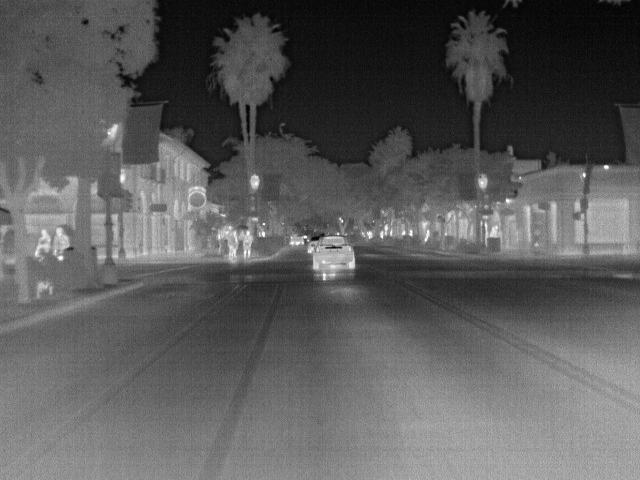car: (311, 232, 357, 276), (288, 232, 308, 248), (308, 236, 323, 254)
person: (51, 225, 69, 260), (36, 227, 52, 260), (240, 230, 253, 257), (227, 231, 240, 257), (241, 229, 254, 255)
